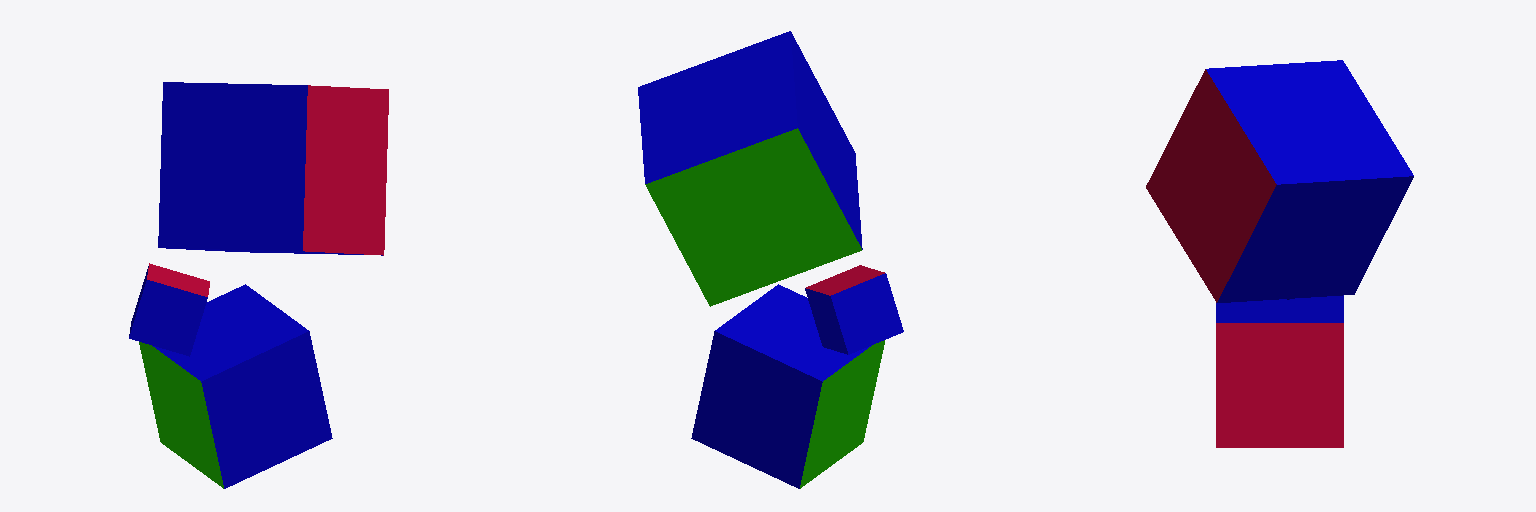
The model's file is BoxStack.obj.
The picture shows the model from 3 angles: view 1: azimuth 30°, elevation 25°; view 2: azimuth 150°, elevation 25°; view 3: azimuth 270°, elevation 25°; orthographic projection.
Parts seen in each view (by area): view 1: Cube_Top_MeshTop, Cube_Bottom_MeshBot, Cube_Middle_MeshMid; view 2: Cube_Top_MeshTop, Cube_Bottom_MeshBot, Cube_Middle_MeshMid; view 3: Cube_Top_MeshTop, Cube_Bottom_MeshBot.
Part boxes in pixels (bbox=[...]): Cube_Top_MeshTop: bbox=[158, 82, 388, 255]; Cube_Bottom_MeshBot: bbox=[139, 284, 332, 488]; Cube_Middle_MeshMid: bbox=[129, 263, 209, 356]; Cube_Top_MeshTop: bbox=[638, 31, 862, 306]; Cube_Bottom_MeshBot: bbox=[691, 284, 884, 488]; Cube_Middle_MeshMid: bbox=[805, 265, 903, 354]; Cube_Top_MeshTop: bbox=[1146, 60, 1413, 302]; Cube_Bottom_MeshBot: bbox=[1216, 295, 1343, 447].
Size of the model in its own units: 2.38 by 3.36 by 2.1.